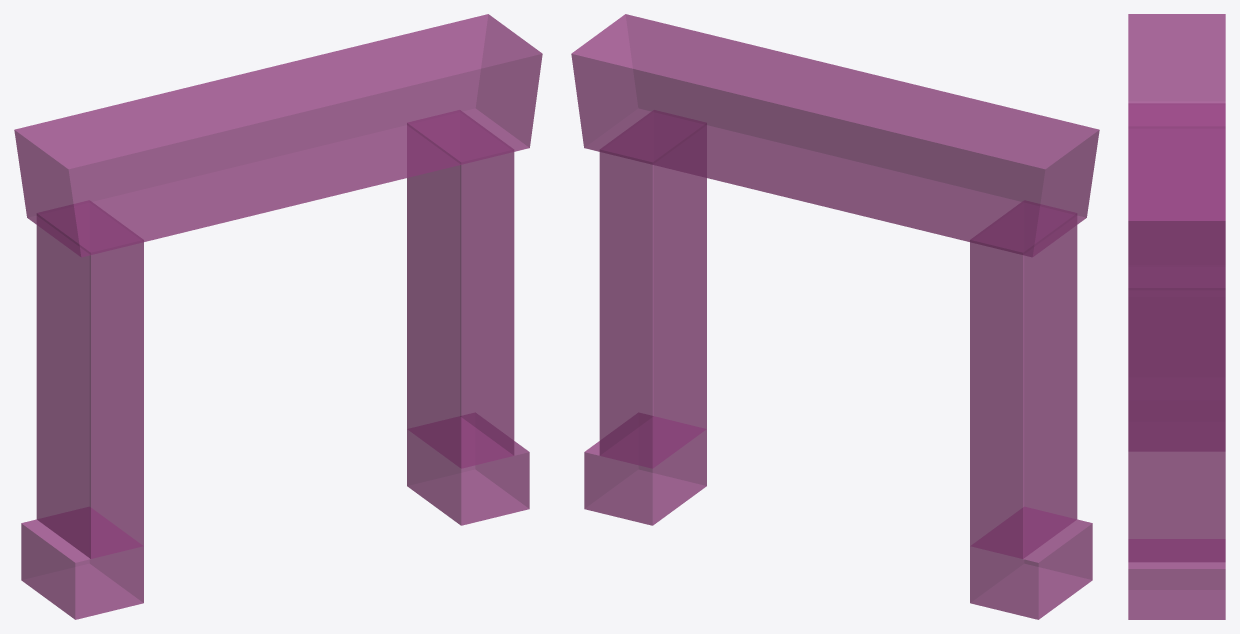
File: SM_Bld_Wall_Door_Large_01_Collision.fbx
3 views of the same model, side by side, from view 1: azimuth 30°, elevation 25°; view 2: azimuth 150°, elevation 25°; view 3: azimuth 270°, elevation 25° (orthographic). The views are drawn at different scales.
Visible parts, largest first — view 1: SM_Bld_Wall_Door_Large_01_Collision; view 2: SM_Bld_Wall_Door_Large_01_Collision; view 3: SM_Bld_Wall_Door_Large_01_Collision.
Part boxes in pixels (box(x1,y1,x2,y2)): SM_Bld_Wall_Door_Large_01_Collision: box(14, 14, 542, 619); SM_Bld_Wall_Door_Large_01_Collision: box(571, 14, 1099, 619); SM_Bld_Wall_Door_Large_01_Collision: box(1128, 14, 1225, 619).
Bounding box in the file's own units: 332 × 303 × 65.84.
